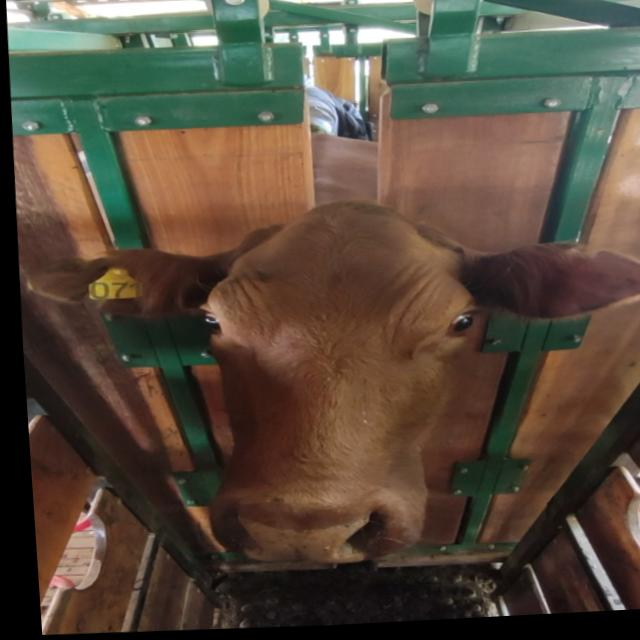cowFace: (188, 197, 488, 572)
